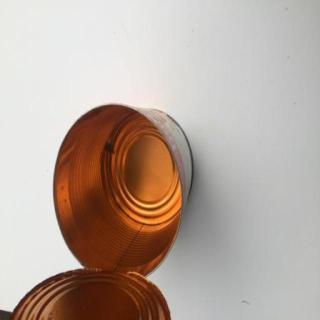Anorganik: (6, 105, 192, 318)
